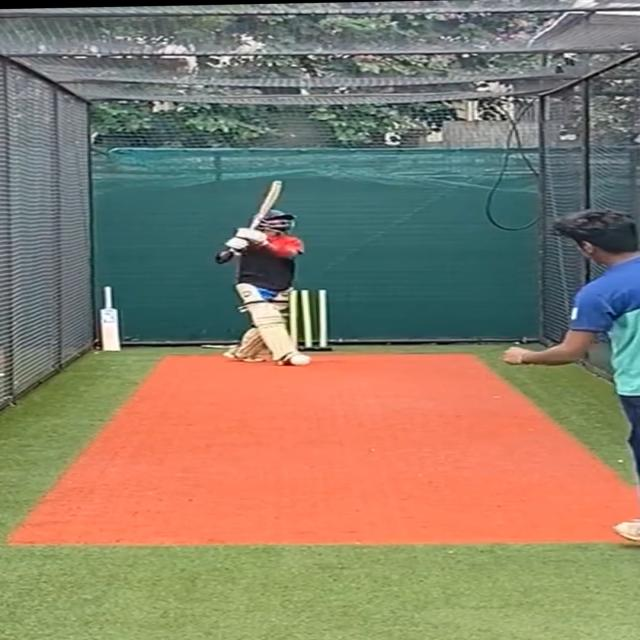ball: (289, 354, 314, 368)
stump: (290, 286, 332, 352)
